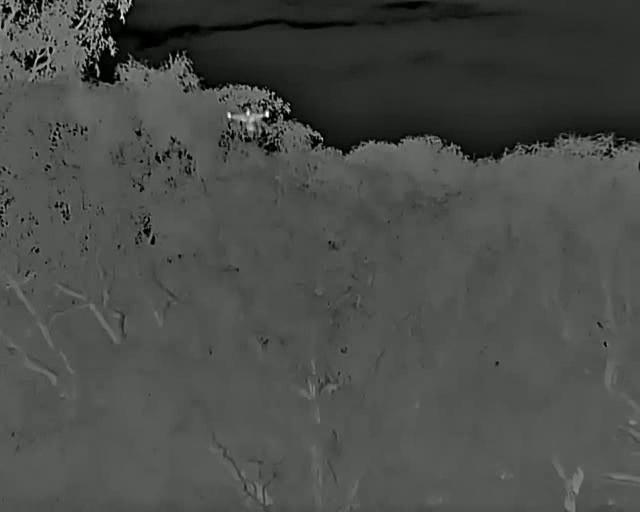DJI-Phantom: (225, 106, 271, 134)
